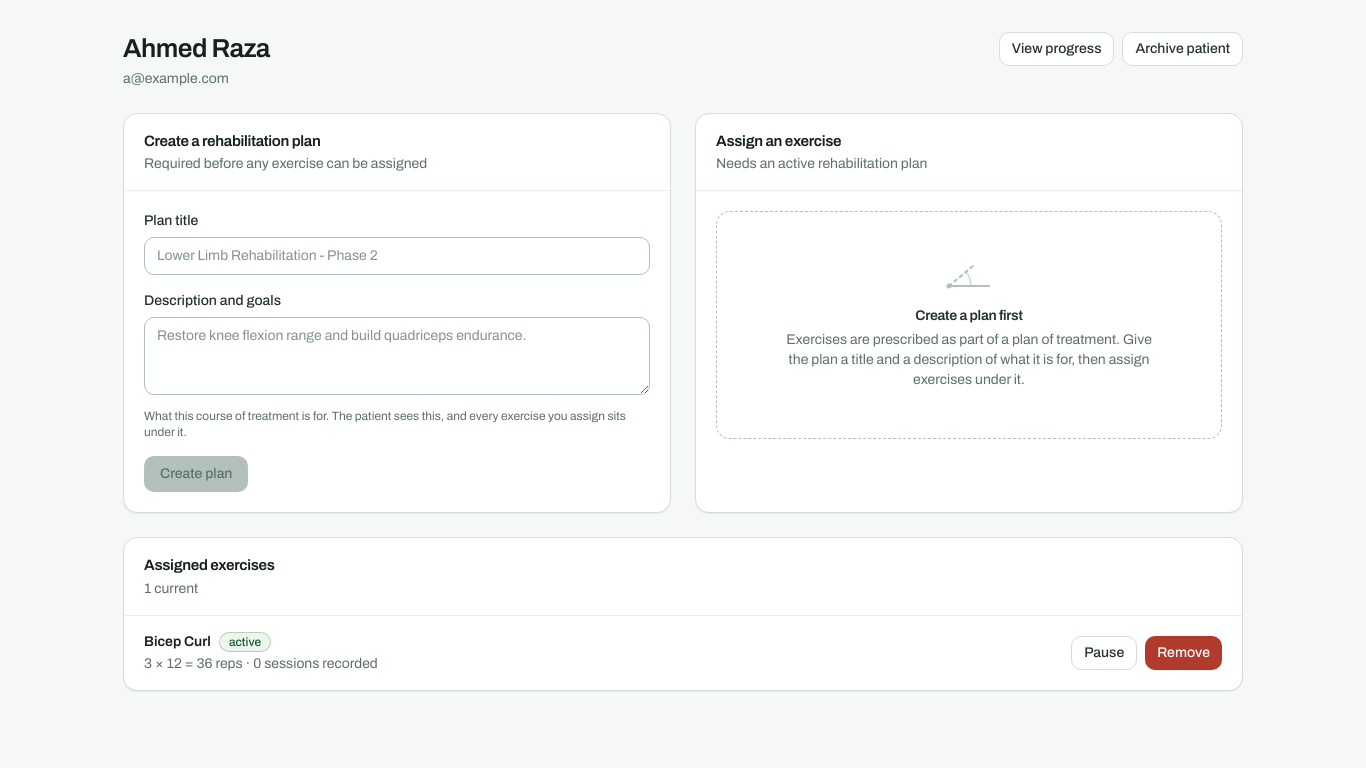
Test case: Assignment actions › surfaces a refusal instead of pretending it worked
The image size is (1366, 768).
Click the button "Remove".
click(1184, 652)  # box [1145,636,1222,670]
(page scrolled)
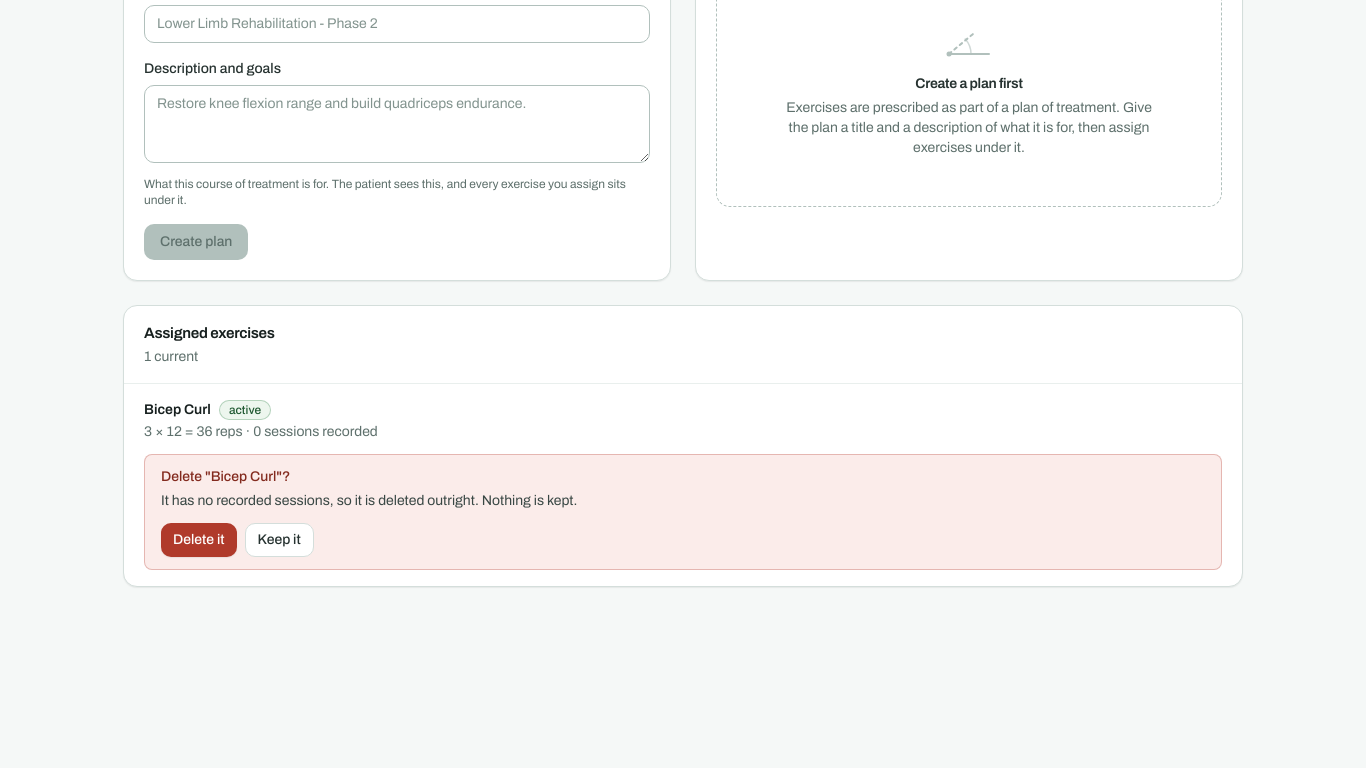
Click the button "Delete it".
click(199, 540)  # box [161,522,237,556]
(page scrolled)
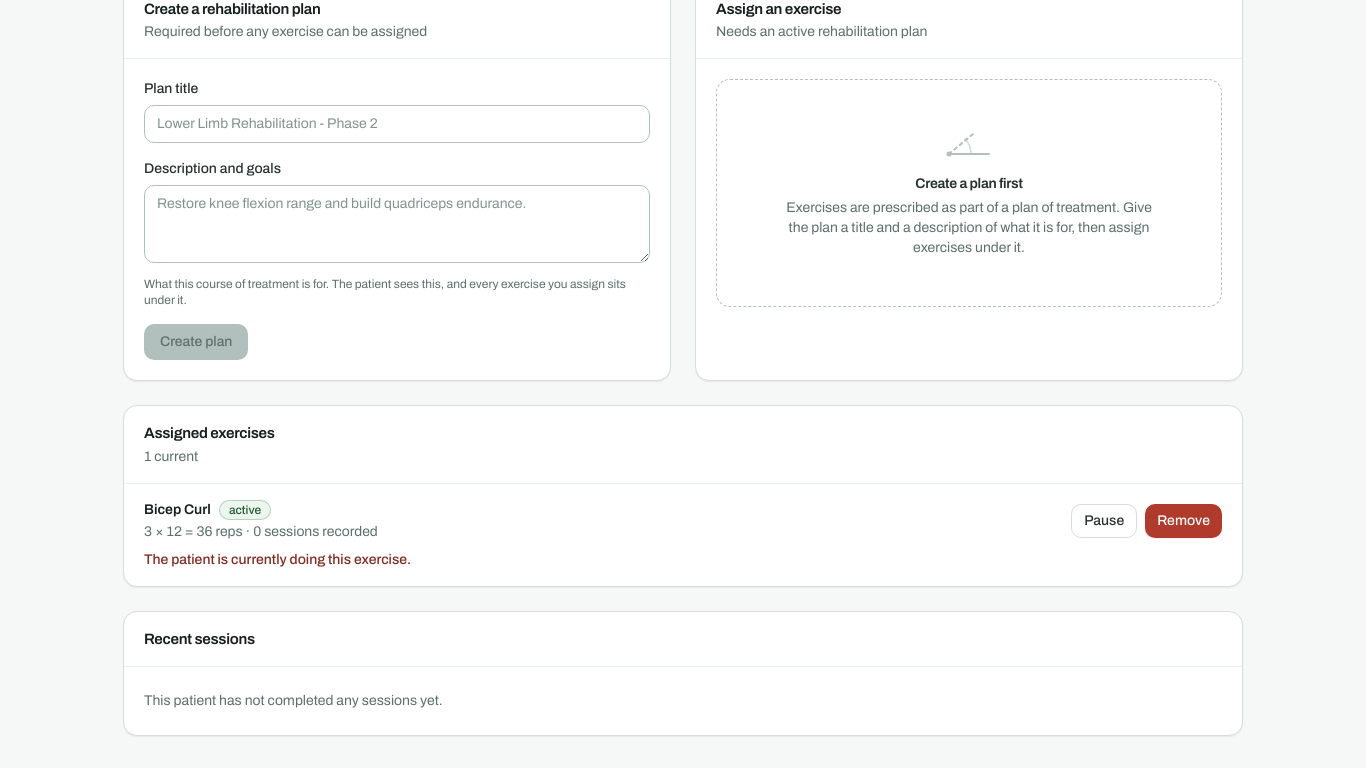
Result: the message "The patient is currently doing this exercise." is shown at [144,552,411,566]
